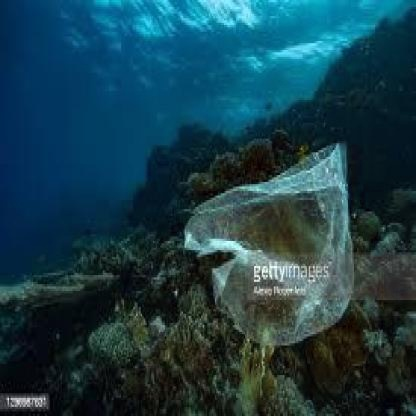pbag: (183, 141, 354, 348)
